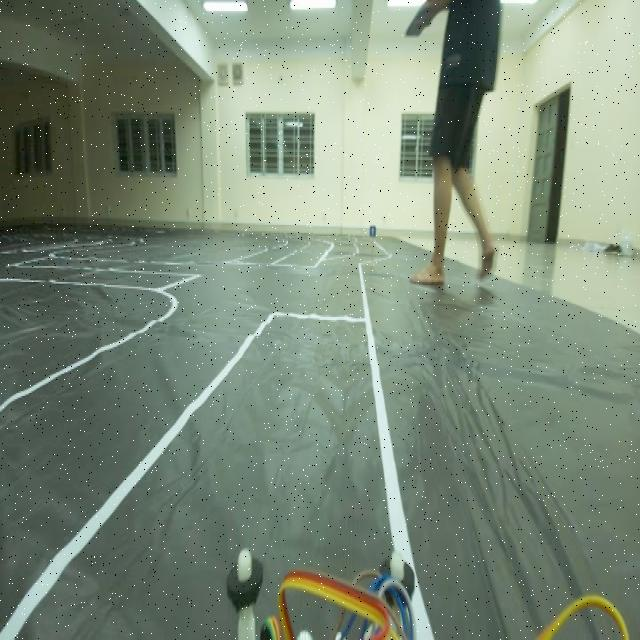onewayroad: (366, 216, 381, 245)
